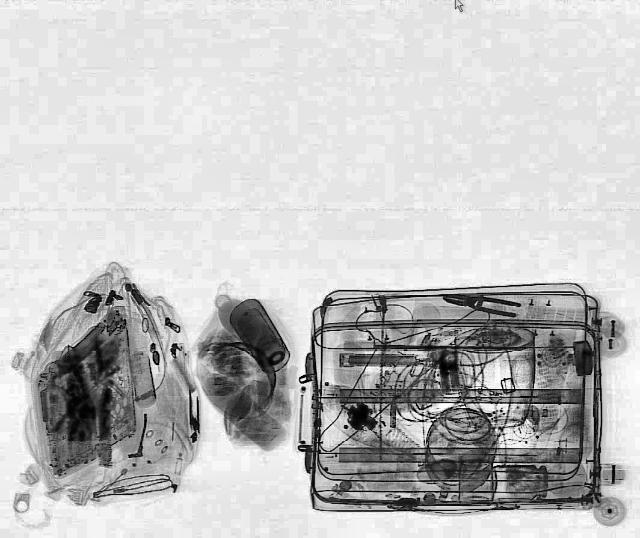Pliers: (442, 288, 522, 318)
